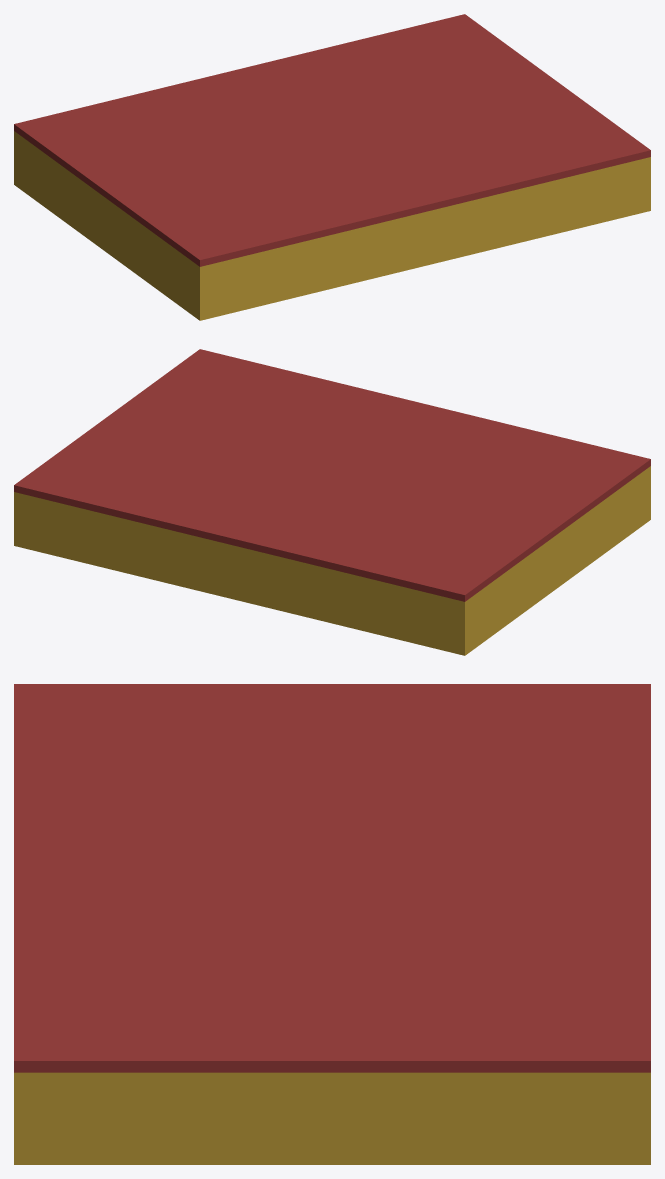
File: GH_Blanket_01.glb
The picture shows the model from 3 angles, top to bottom: view 1: azimuth 30°, elevation 25°; view 2: azimuth 150°, elevation 25°; view 3: azimuth 270°, elevation 25°; orthographic projection. The views are drawn at different scales.
Visible parts, largest first — view 1: GH_Blanket_01; view 2: GH_Blanket_01; view 3: GH_Blanket_01.
Boxes of the visible parts, bbox=[...] form: GH_Blanket_01: bbox=[14, 14, 650, 320]; GH_Blanket_01: bbox=[14, 349, 650, 655]; GH_Blanket_01: bbox=[14, 684, 650, 1164].
Bounding box in the file's own units: 0.7 × 0.09 × 0.5.
Materials: 1 (1 with a texture image).
